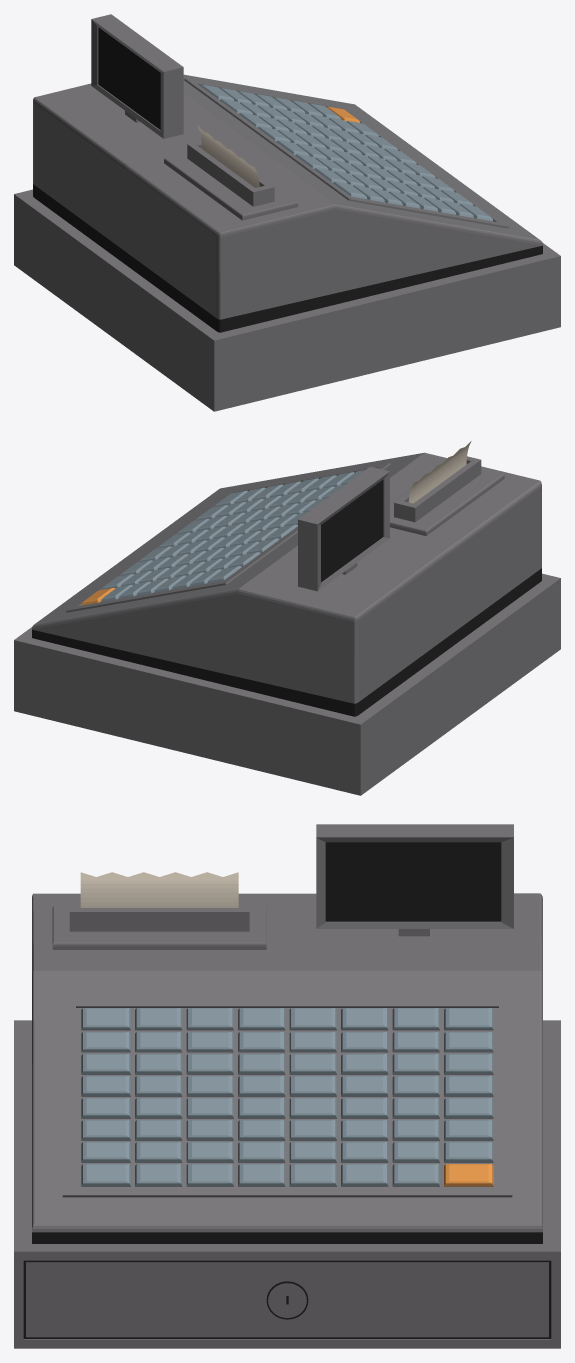
Rendered from caja registrante.fbx.
3 views of the same model, one above another, from view 1: azimuth 30°, elevation 25°; view 2: azimuth 150°, elevation 25°; view 3: azimuth 270°, elevation 25° (orthographic). The views are drawn at different scales.
Visible parts, largest first — view 1: CajaRegistradora; view 2: CajaRegistradora; view 3: CajaRegistradora.
Part boxes in pixels (x1,y1,x2,y2): CajaRegistradora: (14,14,560,411); CajaRegistradora: (14,441,560,795); CajaRegistradora: (14,824,560,1348).
Bounding box in the file's own units: 138 × 92.84 × 138.
